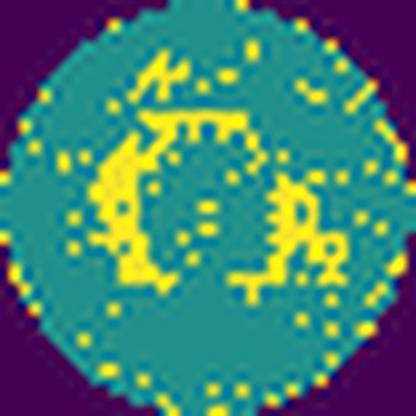Donut: (81, 79, 354, 311)
